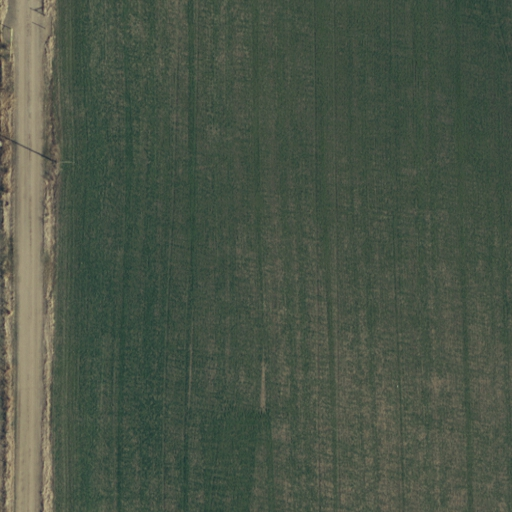DT: (46, 149, 73, 174)
